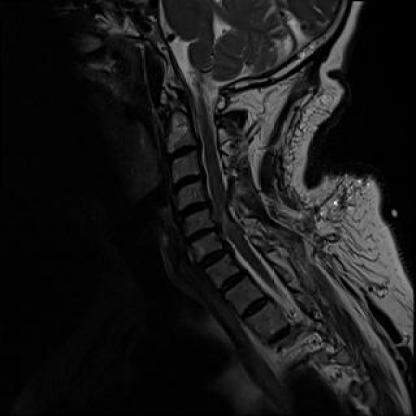Disc Protrusionrotation: (196, 245, 234, 274), (175, 201, 211, 218), (183, 227, 220, 242), (170, 174, 204, 190)
Osteophytesrotation: (183, 227, 220, 242), (170, 174, 204, 190)
